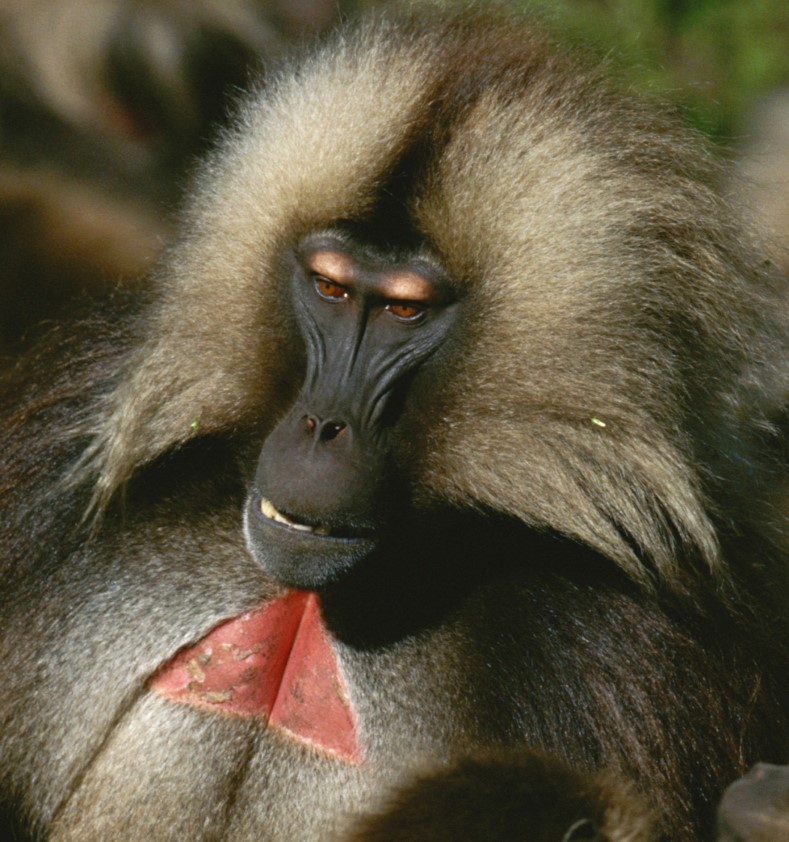Gelada: (40, 91, 746, 817)
